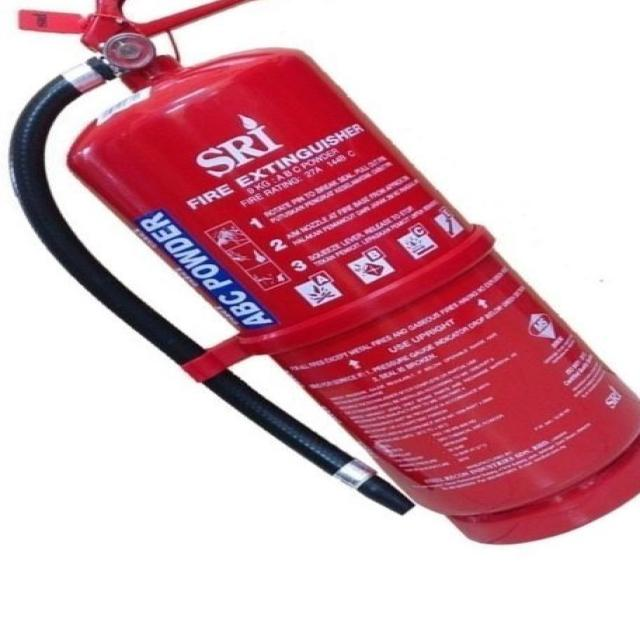fire_extinguisher: (2, 0, 638, 548)
